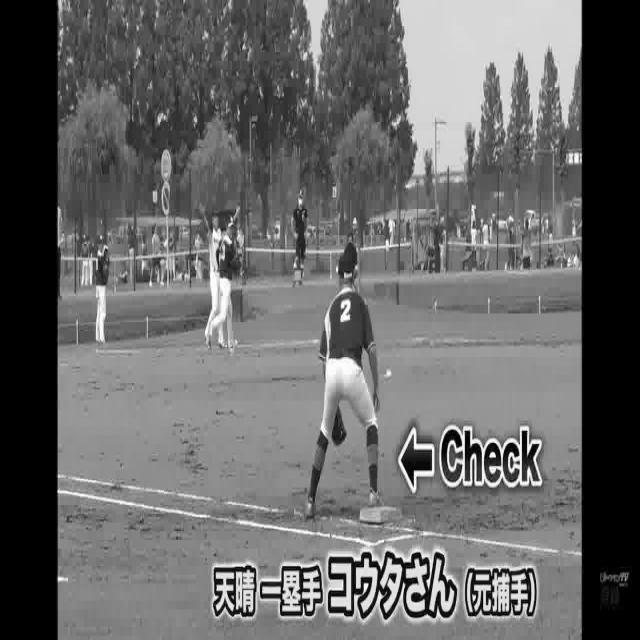base: (358, 495, 406, 529)
baseball_glove: (324, 386, 352, 449)
shoe: (302, 480, 318, 528), (366, 482, 388, 505)
